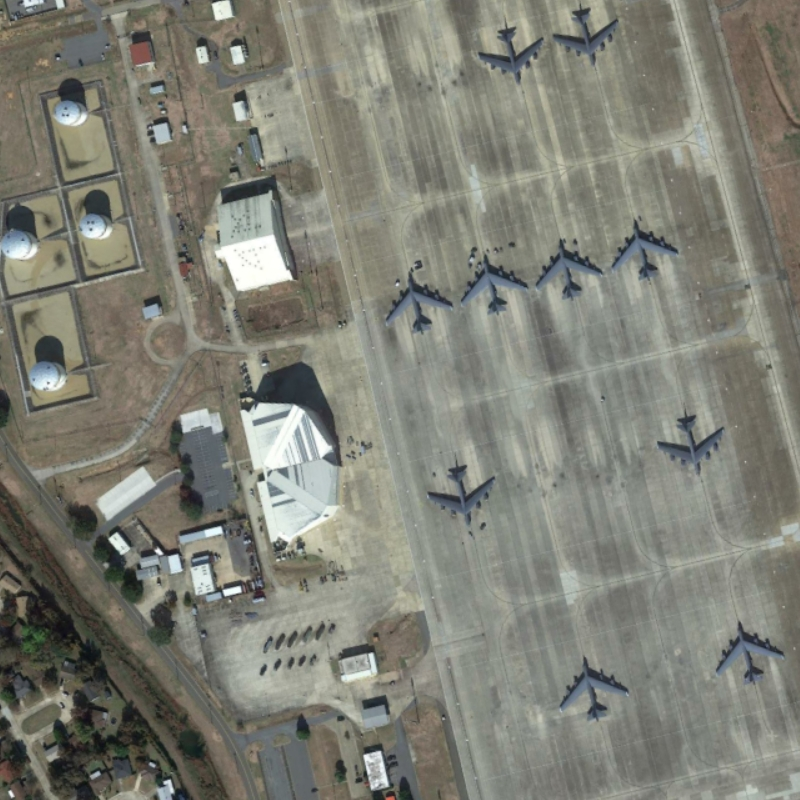A8: (609, 217, 684, 286), (558, 655, 632, 723), (652, 413, 728, 477), (715, 619, 788, 685), (423, 466, 498, 530), (385, 269, 455, 336), (534, 237, 605, 303), (549, 7, 624, 69), (459, 251, 529, 316), (475, 25, 548, 86)
